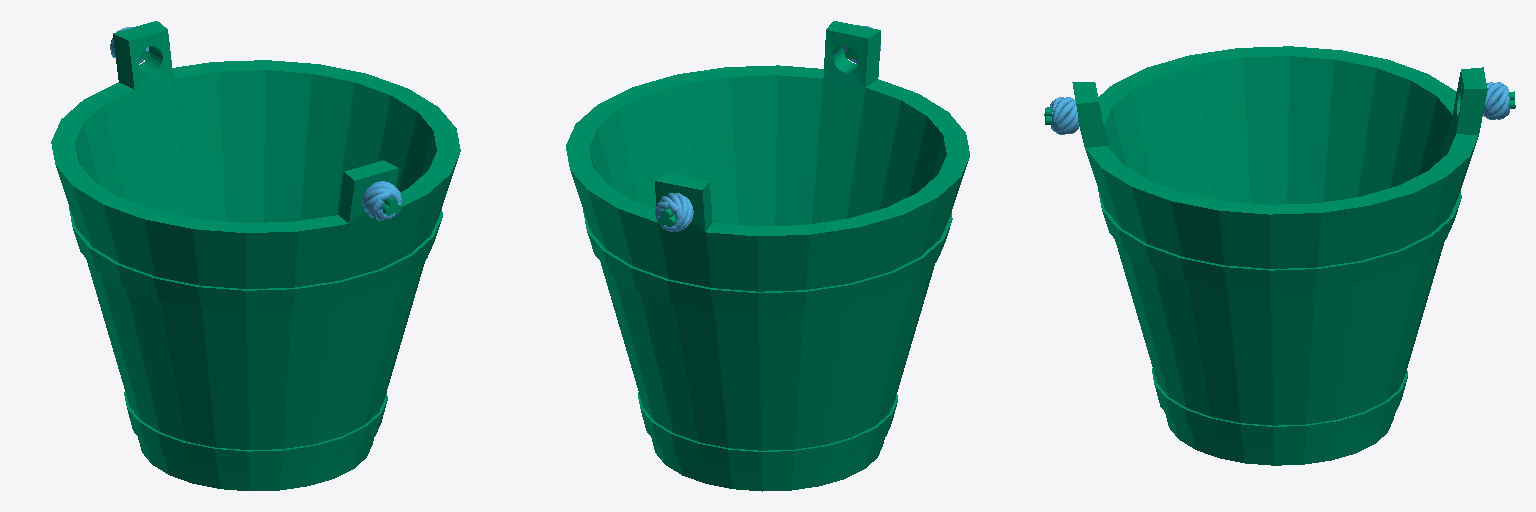
URDF robot description (partnet_823f2656-9520-4364-84a3-df6748c11aa8):
<?xml version="1.0" ?>
<robot name="partnet_823f2656-9520-4364-84a3-df6748c11aa8">
	<link name="base"/>
	<link name="link_0">
		<visual name="handle-1">
			<origin xyz="0.0007932861472682853 -0.6396945949936422 0.029426024776438554"/>
			<geometry>
				<mesh filename="textured_objs/original-14.obj"/>
			</geometry>
		</visual>
		<visual name="handle-1">
			<origin xyz="0.0007932861472682853 -0.6396945949936422 0.029426024776438554"/>
			<geometry>
				<mesh filename="textured_objs/original-18.obj"/>
			</geometry>
		</visual>
		<visual name="handle-1">
			<origin xyz="0.0007932861472682853 -0.6396945949936422 0.029426024776438554"/>
			<geometry>
				<mesh filename="textured_objs/original-20.obj"/>
			</geometry>
		</visual>
		<visual name="handle-1">
			<origin xyz="0.0007932861472682853 -0.6396945949936422 0.029426024776438554"/>
			<geometry>
				<mesh filename="textured_objs/original-22.obj"/>
			</geometry>
		</visual>
		<visual name="handle-1">
			<origin xyz="0.0007932861472682853 -0.6396945949936422 0.029426024776438554"/>
			<geometry>
				<mesh filename="textured_objs/original-23.obj"/>
			</geometry>
		</visual>
		<visual name="handle-1">
			<origin xyz="0.0007932861472682853 -0.6396945949936422 0.029426024776438554"/>
			<geometry>
				<mesh filename="textured_objs/original-24.obj"/>
			</geometry>
		</visual>
		<visual name="handle-1">
			<origin xyz="0.0007932861472682853 -0.6396945949936422 0.029426024776438554"/>
			<geometry>
				<mesh filename="textured_objs/original-21.obj"/>
			</geometry>
		</visual>
		<visual name="handle-1">
			<origin xyz="0.0007932861472682853 -0.6396945949936422 0.029426024776438554"/>
			<geometry>
				<mesh filename="textured_objs/original-17.obj"/>
			</geometry>
		</visual>
		<visual name="handle-1">
			<origin xyz="0.0007932861472682853 -0.6396945949936422 0.029426024776438554"/>
			<geometry>
				<mesh filename="textured_objs/original-19.obj"/>
			</geometry>
		</visual>
		<visual name="handle-1">
			<origin xyz="0.0007932861472682853 -0.6396945949936422 0.029426024776438554"/>
			<geometry>
				<mesh filename="textured_objs/original-31.obj"/>
			</geometry>
		</visual>
		<visual name="handle-1">
			<origin xyz="0.0007932861472682853 -0.6396945949936422 0.029426024776438554"/>
			<geometry>
				<mesh filename="textured_objs/original-34.obj"/>
			</geometry>
		</visual>
		<visual name="handle-1">
			<origin xyz="0.0007932861472682853 -0.6396945949936422 0.029426024776438554"/>
			<geometry>
				<mesh filename="textured_objs/original-33.obj"/>
			</geometry>
		</visual>
		<visual name="handle-1">
			<origin xyz="0.0007932861472682853 -0.6396945949936422 0.029426024776438554"/>
			<geometry>
				<mesh filename="textured_objs/original-28.obj"/>
			</geometry>
		</visual>
		<visual name="handle-1">
			<origin xyz="0.0007932861472682853 -0.6396945949936422 0.029426024776438554"/>
			<geometry>
				<mesh filename="textured_objs/original-30.obj"/>
			</geometry>
		</visual>
		<visual name="handle-1">
			<origin xyz="0.0007932861472682853 -0.6396945949936422 0.029426024776438554"/>
			<geometry>
				<mesh filename="textured_objs/original-32.obj"/>
			</geometry>
		</visual>
		<visual name="handle-1">
			<origin xyz="0.0007932861472682853 -0.6396945949936422 0.029426024776438554"/>
			<geometry>
				<mesh filename="textured_objs/original-27.obj"/>
			</geometry>
		</visual>
		<visual name="handle-1">
			<origin xyz="0.0007932861472682853 -0.6396945949936422 0.029426024776438554"/>
			<geometry>
				<mesh filename="textured_objs/original-29.obj"/>
			</geometry>
		</visual>
		<collision>
			<origin xyz="0.0007932861472682853 -0.6396945949936422 0.029426024776438554"/>
			<geometry>
				<mesh filename="textured_objs/original-14.obj"/>
			</geometry>
		</collision>
		<collision>
			<origin xyz="0.0007932861472682853 -0.6396945949936422 0.029426024776438554"/>
			<geometry>
				<mesh filename="textured_objs/original-18.obj"/>
			</geometry>
		</collision>
		<collision>
			<origin xyz="0.0007932861472682853 -0.6396945949936422 0.029426024776438554"/>
			<geometry>
				<mesh filename="textured_objs/original-20.obj"/>
			</geometry>
		</collision>
		<collision>
			<origin xyz="0.0007932861472682853 -0.6396945949936422 0.029426024776438554"/>
			<geometry>
				<mesh filename="textured_objs/original-22.obj"/>
			</geometry>
		</collision>
		<collision>
			<origin xyz="0.0007932861472682853 -0.6396945949936422 0.029426024776438554"/>
			<geometry>
				<mesh filename="textured_objs/original-23.obj"/>
			</geometry>
		</collision>
		<collision>
			<origin xyz="0.0007932861472682853 -0.6396945949936422 0.029426024776438554"/>
			<geometry>
				<mesh filename="textured_objs/original-24.obj"/>
			</geometry>
		</collision>
		<collision>
			<origin xyz="0.0007932861472682853 -0.6396945949936422 0.029426024776438554"/>
			<geometry>
				<mesh filename="textured_objs/original-21.obj"/>
			</geometry>
		</collision>
		<collision>
			<origin xyz="0.0007932861472682853 -0.6396945949936422 0.029426024776438554"/>
			<geometry>
				<mesh filename="textured_objs/original-17.obj"/>
			</geometry>
		</collision>
		<collision>
			<origin xyz="0.0007932861472682853 -0.6396945949936422 0.029426024776438554"/>
			<geometry>
				<mesh filename="textured_objs/original-19.obj"/>
			</geometry>
		</collision>
		<collision>
			<origin xyz="0.0007932861472682853 -0.6396945949936422 0.029426024776438554"/>
			<geometry>
				<mesh filename="textured_objs/original-31.obj"/>
			</geometry>
		</collision>
		<collision>
			<origin xyz="0.0007932861472682853 -0.6396945949936422 0.029426024776438554"/>
			<geometry>
				<mesh filename="textured_objs/original-34.obj"/>
			</geometry>
		</collision>
		<collision>
			<origin xyz="0.0007932861472682853 -0.6396945949936422 0.029426024776438554"/>
			<geometry>
				<mesh filename="textured_objs/original-33.obj"/>
			</geometry>
		</collision>
		<collision>
			<origin xyz="0.0007932861472682853 -0.6396945949936422 0.029426024776438554"/>
			<geometry>
				<mesh filename="textured_objs/original-28.obj"/>
			</geometry>
		</collision>
		<collision>
			<origin xyz="0.0007932861472682853 -0.6396945949936422 0.029426024776438554"/>
			<geometry>
				<mesh filename="textured_objs/original-30.obj"/>
			</geometry>
		</collision>
		<collision>
			<origin xyz="0.0007932861472682853 -0.6396945949936422 0.029426024776438554"/>
			<geometry>
				<mesh filename="textured_objs/original-32.obj"/>
			</geometry>
		</collision>
		<collision>
			<origin xyz="0.0007932861472682853 -0.6396945949936422 0.029426024776438554"/>
			<geometry>
				<mesh filename="textured_objs/original-27.obj"/>
			</geometry>
		</collision>
		<collision>
			<origin xyz="0.0007932861472682853 -0.6396945949936422 0.029426024776438554"/>
			<geometry>
				<mesh filename="textured_objs/original-29.obj"/>
			</geometry>
		</collision>
	</link>
	<joint name="joint_0" type="revolute">
		<origin xyz="-0.0007932861472682853 0.6396945949936422 -0.029426024776438554"/>
		<axis xyz="-1 0 0.08"/>
		<child link="link_0"/>
		<parent link="link_1"/>
		<limit lower="-0.006283185307179586" upper="3.443185548334413"/>
	</joint>
	<link name="link_1">
		<visual name="base_body-2">
			<origin xyz="0 0 0"/>
			<geometry>
				<mesh filename="textured_objs/original-26.obj"/>
			</geometry>
		</visual>
		<visual name="base_body-2">
			<origin xyz="0 0 0"/>
			<geometry>
				<mesh filename="textured_objs/original-4.obj"/>
			</geometry>
		</visual>
		<visual name="base_body-2">
			<origin xyz="0 0 0"/>
			<geometry>
				<mesh filename="textured_objs/original-3.obj"/>
			</geometry>
		</visual>
		<visual name="base_body-2">
			<origin xyz="0 0 0"/>
			<geometry>
				<mesh filename="textured_objs/original-2.obj"/>
			</geometry>
		</visual>
		<visual name="base_body-2">
			<origin xyz="0 0 0"/>
			<geometry>
				<mesh filename="textured_objs/original-16.obj"/>
			</geometry>
		</visual>
		<visual name="base_body-2">
			<origin xyz="0 0 0"/>
			<geometry>
				<mesh filename="textured_objs/original-8.obj"/>
			</geometry>
		</visual>
		<visual name="base_body-2">
			<origin xyz="0 0 0"/>
			<geometry>
				<mesh filename="textured_objs/original-9.obj"/>
			</geometry>
		</visual>
		<visual name="base_body-2">
			<origin xyz="0 0 0"/>
			<geometry>
				<mesh filename="textured_objs/original-5.obj"/>
			</geometry>
		</visual>
		<visual name="base_body-2">
			<origin xyz="0 0 0"/>
			<geometry>
				<mesh filename="textured_objs/original-6.obj"/>
			</geometry>
		</visual>
		<visual name="base_body-2">
			<origin xyz="0 0 0"/>
			<geometry>
				<mesh filename="textured_objs/original-11.obj"/>
			</geometry>
		</visual>
		<visual name="base_body-2">
			<origin xyz="0 0 0"/>
			<geometry>
				<mesh filename="textured_objs/original-12.obj"/>
			</geometry>
		</visual>
		<visual name="base_body-2">
			<origin xyz="0 0 0"/>
			<geometry>
				<mesh filename="textured_objs/original-7.obj"/>
			</geometry>
		</visual>
		<visual name="base_body-2">
			<origin xyz="0 0 0"/>
			<geometry>
				<mesh filename="textured_objs/original-10.obj"/>
			</geometry>
		</visual>
		<collision>
			<origin xyz="0 0 0"/>
			<geometry>
				<mesh filename="textured_objs/original-26.obj"/>
			</geometry>
		</collision>
		<collision>
			<origin xyz="0 0 0"/>
			<geometry>
				<mesh filename="textured_objs/original-4.obj"/>
			</geometry>
		</collision>
		<collision>
			<origin xyz="0 0 0"/>
			<geometry>
				<mesh filename="textured_objs/original-3.obj"/>
			</geometry>
		</collision>
		<collision>
			<origin xyz="0 0 0"/>
			<geometry>
				<mesh filename="textured_objs/original-2.obj"/>
			</geometry>
		</collision>
		<collision>
			<origin xyz="0 0 0"/>
			<geometry>
				<mesh filename="textured_objs/original-16.obj"/>
			</geometry>
		</collision>
		<collision>
			<origin xyz="0 0 0"/>
			<geometry>
				<mesh filename="textured_objs/original-8.obj"/>
			</geometry>
		</collision>
		<collision>
			<origin xyz="0 0 0"/>
			<geometry>
				<mesh filename="textured_objs/original-9.obj"/>
			</geometry>
		</collision>
		<collision>
			<origin xyz="0 0 0"/>
			<geometry>
				<mesh filename="textured_objs/original-5.obj"/>
			</geometry>
		</collision>
		<collision>
			<origin xyz="0 0 0"/>
			<geometry>
				<mesh filename="textured_objs/original-6.obj"/>
			</geometry>
		</collision>
		<collision>
			<origin xyz="0 0 0"/>
			<geometry>
				<mesh filename="textured_objs/original-11.obj"/>
			</geometry>
		</collision>
		<collision>
			<origin xyz="0 0 0"/>
			<geometry>
				<mesh filename="textured_objs/original-12.obj"/>
			</geometry>
		</collision>
		<collision>
			<origin xyz="0 0 0"/>
			<geometry>
				<mesh filename="textured_objs/original-7.obj"/>
			</geometry>
		</collision>
		<collision>
			<origin xyz="0 0 0"/>
			<geometry>
				<mesh filename="textured_objs/original-10.obj"/>
			</geometry>
		</collision>
	</link>
	<joint name="joint_1" type="fixed">
		<origin rpy="1.570796326794897 0 -1.570796326794897" xyz="0 0 0"/>
		<child link="link_1"/>
		<parent link="base"/>
	</joint>
</robot>

--- Render facts (derived) ---
3 views of the same robot in one strip: view 1: azimuth 30°, elevation 25°; view 2: azimuth 150°, elevation 25°; view 3: azimuth 270°, elevation 25° (orthographic).
Robot: partnet_823f2656-9520-4364-84a3-df6748c11aa8 — 3 links, 2 joints (1 revolute, 1 fixed); root link base; default pose: every joint at zero.
Visible links, largest first — view 1: link_1, link_0; view 2: link_1, link_0; view 3: link_1, link_0.
Boxes of the visible links, bbox=[...] form: link_1: bbox=[51, 21, 460, 490]; link_0: bbox=[110, 27, 401, 220]; link_1: bbox=[566, 21, 969, 491]; link_0: bbox=[655, 25, 880, 231]; link_1: bbox=[1044, 46, 1515, 465]; link_0: bbox=[1050, 82, 1509, 134].
Bounding box of the posed robot: 1.26 × 1.49 × 1.16 m (x, y, z).
Meshes: 30 distinct files referenced, 29 mesh visuals loaded (29 OBJ); not drawn: 1 (reference not matched to a file when rendering).